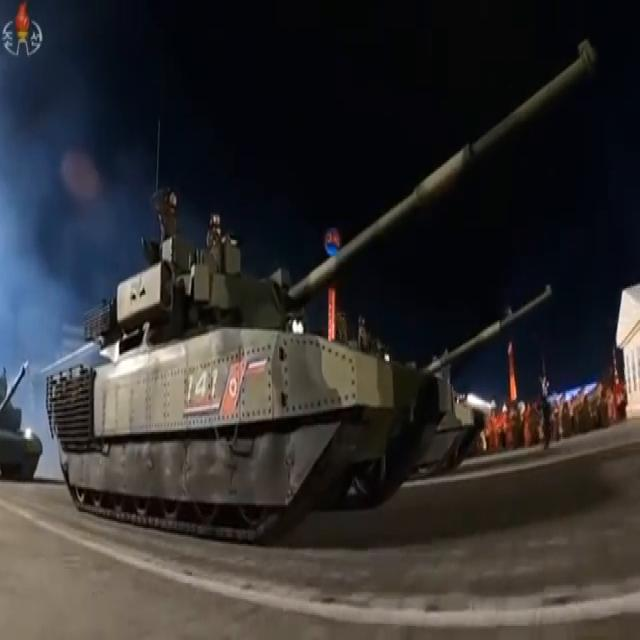north tank: (27, 30, 637, 542), (313, 274, 568, 473)
